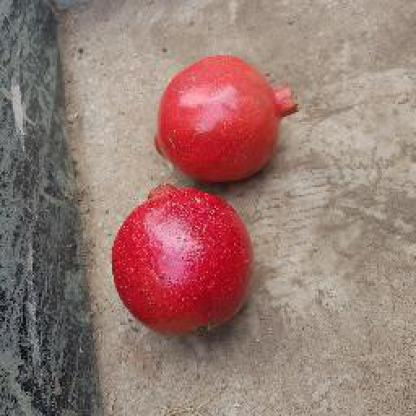pomegranate: (110, 186, 252, 341), (151, 53, 294, 186)
